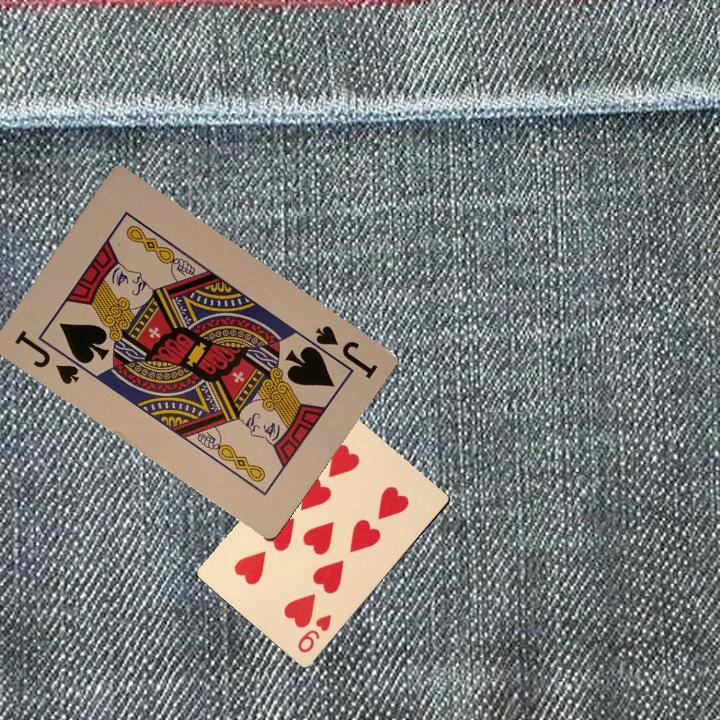9h: (293, 610, 334, 656)
Js: (301, 321, 381, 381), (10, 326, 87, 388)
